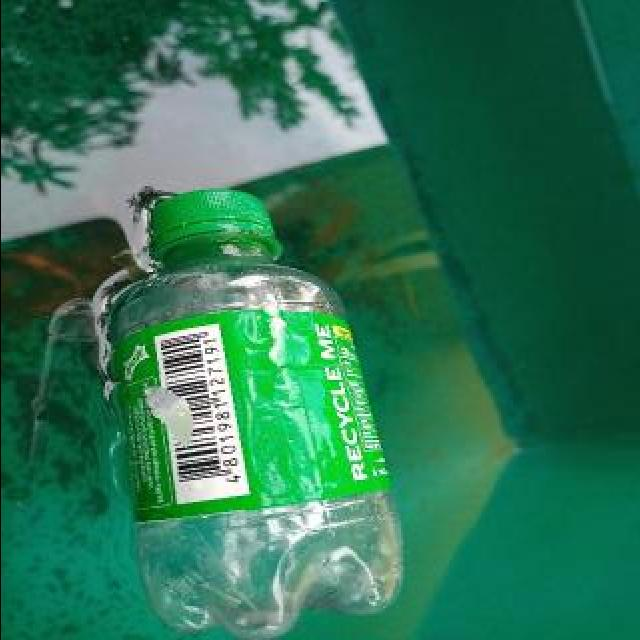Bottle: (103, 190, 403, 636)
